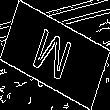M_SW: (31, 23, 79, 87)
